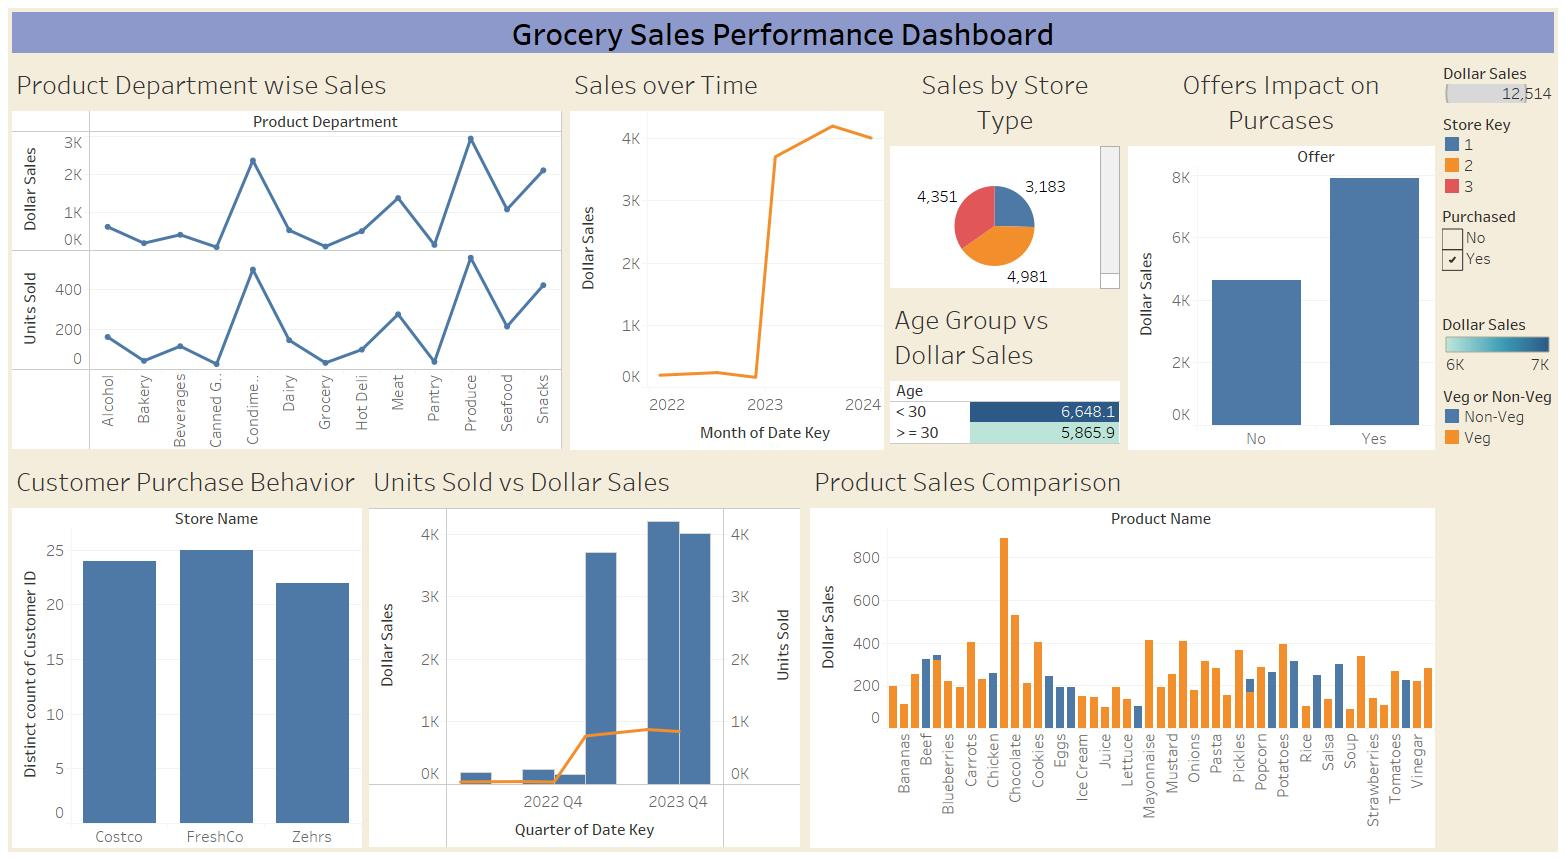

What the dashboard file says about the page in this screenshot:
{"tool":"tableau","page":{"name":"Grocery Sales Performance Dashboard","canvas":[1566,860],"ordinal":0},"visuals":[{"type":"title","box":[8,8,1550,49]},{"type":"worksheet","title":"Product Department wise Sales","mark":"Line","rows":["Dollar Sales","Units Sold"],"cols":["Product Department"],"box":[8,57,557.7,397.5]},{"type":"worksheet","title":"Sales over Time","mark":"Automatic","rows":["Dollar Sales"],"cols":["Date Key"],"box":[565.7,57,320.6,397.5]},{"type":"worksheet","title":"Sales by Store Type","mark":"Pie","box":[886.3,57,238,234.5]},{"type":"worksheet","title":"Offer Impact on Purchases","mark":"Automatic","rows":["Dollar Sales"],"cols":["Offer"],"box":[1124.3,57,313.7,397.5]},{"type":"legend","title":"Sales by Store Type","param":"[federated.0gllan61cf1jju1akws8505g9fg9].[sum:Dollar Sales:qk]","box":[1438,57,120,51]},{"type":"legend","title":"Sales by Store Type","param":"[federated.0gllan61cf1jju1akws8505g9fg9].[none:Store Key:ok]","box":[1438,108,120,93]},{"type":"filter","title":"Customer Purchase Behavior","param":"[federated.0gllan61cf1jju1akws8505g9fg9].[none:Purchased:nk]","box":[1438,201,120,105]},{"type":"worksheet","title":"Age Group vs Dollar Sales","mark":"Square","rows":["Age"],"box":[886.3,291.5,238,163]},{"type":"legend","title":"Age Group vs Dollar Sales","param":"[federated.0gllan61cf1jju1akws8505g9fg9].[sum:Dollar Sales:qk]","box":[1438,306,120,73]},{"type":"legend","title":"Product Sales Comparison","param":"[federated.0gllan61cf1jju1akws8505g9fg9].[none:Veg or Non-Veg:nk]","box":[1438,379,120,72]},{"type":"worksheet","title":"Customer Purchase Behavior","mark":"Automatic","rows":["Customer ID"],"cols":["Store Name"],"box":[8,454.5,357.4,397.5]},{"type":"worksheet","title":"Units Sold vs Dollar Sales","mark":"Bar","rows":["Dollar Sales","Units Sold"],"cols":["Date Key"],"box":[365.4,454.5,440.2,397.5]},{"type":"worksheet","title":"Product Sales Comparison","mark":"Automatic","rows":["Dollar Sales"],"cols":["Product Name"],"box":[805.6,454.5,632.4,397.5]}]}

Visuals, with their boxes in screenshot pixels (x1, y1, x2, y2), scaled from the page's 1566x860 canvas onto the 1566x860 screenshot:
title: detection(8, 8, 1558, 57)
"Product Department wise Sales" worksheet (Line marks): detection(8, 57, 566, 454)
"Sales over Time" worksheet: detection(566, 57, 886, 454)
"Sales by Store Type" worksheet (Pie marks): detection(886, 57, 1124, 292)
"Offer Impact on Purchases" worksheet: detection(1124, 57, 1438, 454)
"Sales by Store Type" legend: detection(1438, 57, 1558, 108)
"Sales by Store Type" legend: detection(1438, 108, 1558, 201)
"Customer Purchase Behavior" filter: detection(1438, 201, 1558, 306)
"Age Group vs Dollar Sales" worksheet (Square marks): detection(886, 292, 1124, 454)
"Age Group vs Dollar Sales" legend: detection(1438, 306, 1558, 379)
"Product Sales Comparison" legend: detection(1438, 379, 1558, 451)
"Customer Purchase Behavior" worksheet: detection(8, 454, 365, 852)
"Units Sold vs Dollar Sales" worksheet (Bar marks): detection(365, 454, 806, 852)
"Product Sales Comparison" worksheet: detection(806, 454, 1438, 852)
